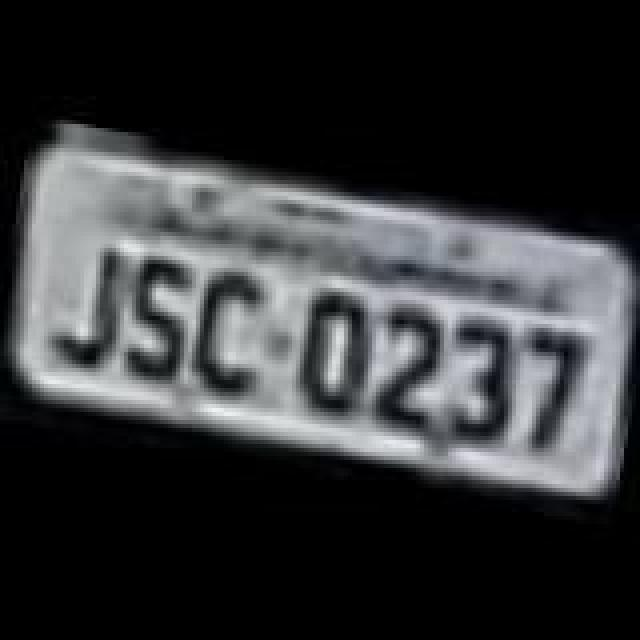2: (360, 294, 456, 434)
3: (434, 310, 526, 450)
7: (508, 326, 596, 458)
C: (188, 268, 276, 396)
J: (48, 236, 128, 372)
O: (286, 284, 370, 420)
S: (114, 244, 206, 380)
